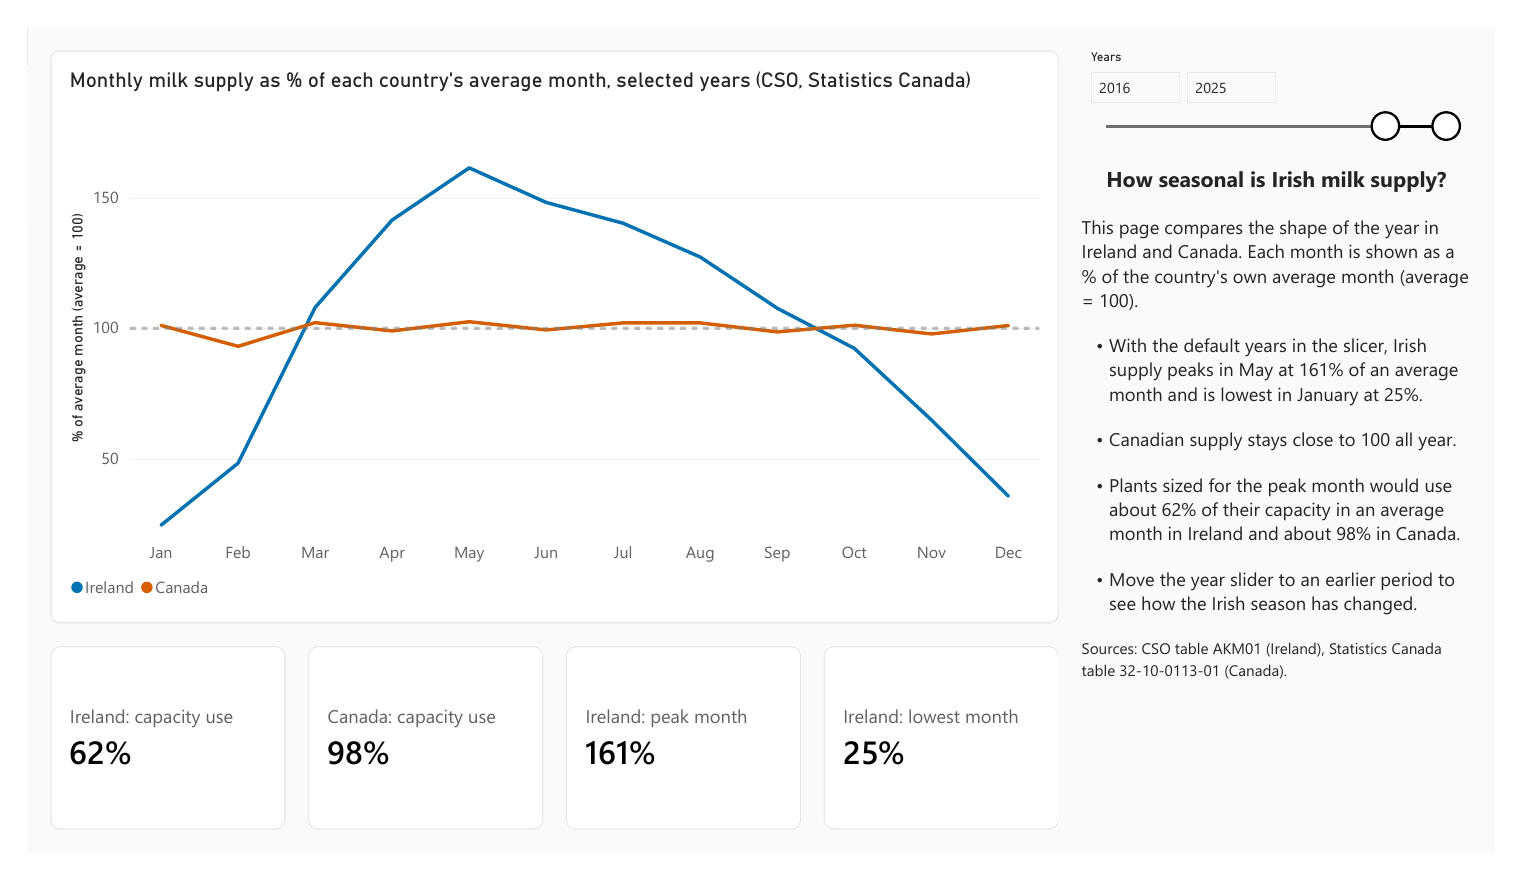

The dashboard page shown, as its layout file describes it:
{"tool":"powerbi","page":{"name":"Seasonality","canvas":[1280,720],"ordinal":1},"visuals":[{"type":"lineChart","title":"Monthly milk supply as % of each country''s average month, selected years (CSO, Statistics Canada)","fields":{"Category":["dim_date.month_short"],"Y":["fact_monthly.Ireland, % of average month","fact_monthly.Canada, % of average month"]},"box":[20,20,880,500],"z":0},{"type":"cardVisual","fields":{"Data":["fact_monthly.Ireland, capacity use (label)"]},"box":[20,540,205,160],"z":1000},{"type":"cardVisual","fields":{"Data":["fact_monthly.Canada, capacity use (label)"]},"box":[245,540,205,160],"z":2000},{"type":"textbox","box":[920,120,340,580],"z":3000},{"type":"slicer","fields":{"Values":["dim_date.year"]},"box":[920,20,340,80],"z":4000},{"type":"cardVisual","fields":{"Data":["fact_monthly.Ireland, peak month (label)"]},"box":[470,540,205,160],"z":5000},{"type":"cardVisual","fields":{"Data":["fact_monthly.Ireland, lowest month (label)"]},"box":[695,540,205,160],"z":6000}]}

Visuals, with their boxes in screenshot pixels (x1, y1, x2, y2), scaled from the page's 1280x720 canvas onto the 1522x880 screenshot:
"Monthly milk supply as % of each country''s average month, selected years (CSO, Statistics Canada)" lineChart: [left=24, top=24, right=1070, bottom=636]
cardVisual - fact_monthly.Ireland, capacity use (label): [left=24, top=660, right=268, bottom=856]
cardVisual - fact_monthly.Canada, capacity use (label): [left=291, top=660, right=535, bottom=856]
textbox: [left=1094, top=147, right=1498, bottom=856]
slicer - dim_date.year: [left=1094, top=24, right=1498, bottom=122]
cardVisual - fact_monthly.Ireland, peak month (label): [left=559, top=660, right=803, bottom=856]
cardVisual - fact_monthly.Ireland, lowest month (label): [left=826, top=660, right=1070, bottom=856]
